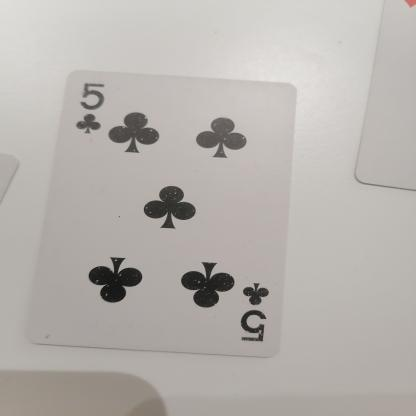5C: (60, 82, 126, 151), (237, 275, 285, 348)
